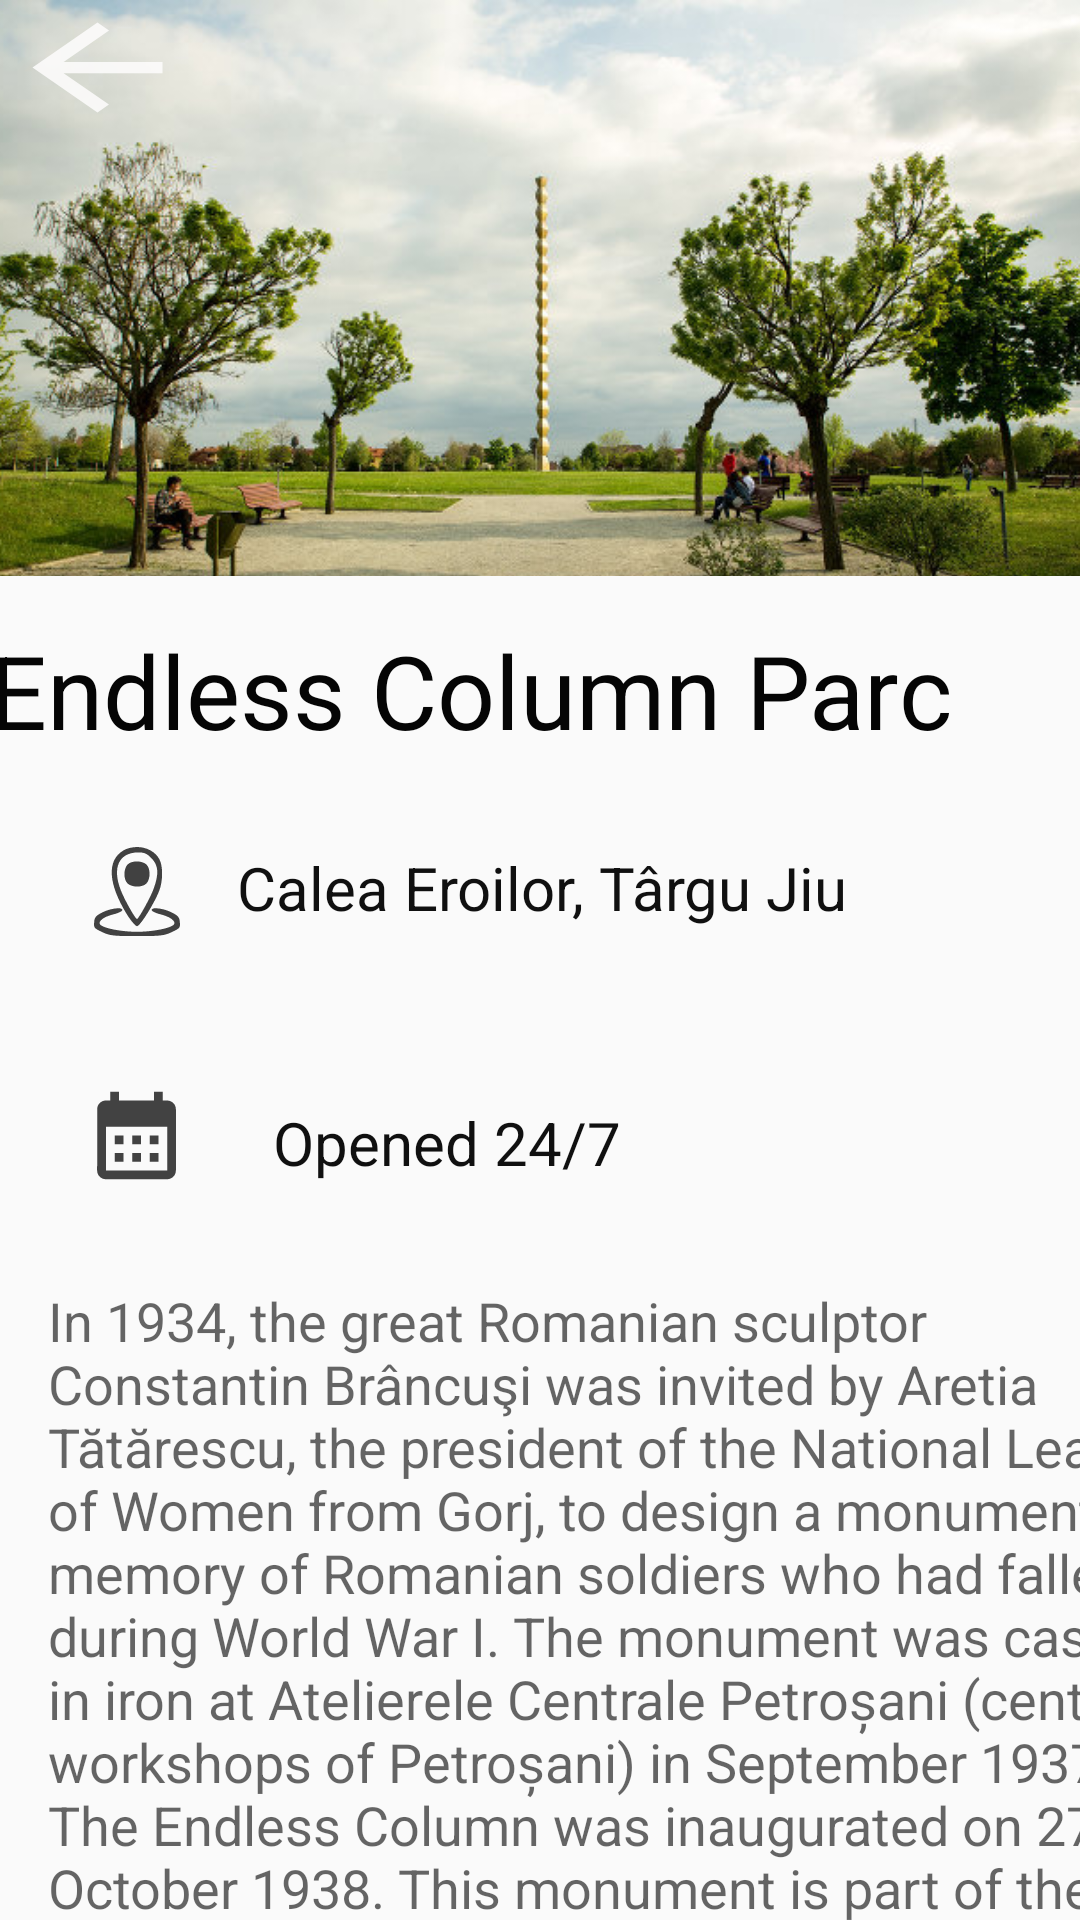

Icon bounding boxes for this 1080x1920 phone screenshot, format {"left": x1, "top": y1, "right": x2, "bottom": y2}:
arrow back: {"left": 0, "top": 0, "right": 162, "bottom": 112}
calendar month: {"left": 97, "top": 1091, "right": 176, "bottom": 1180}
place marker: {"left": 94, "top": 847, "right": 180, "bottom": 936}
